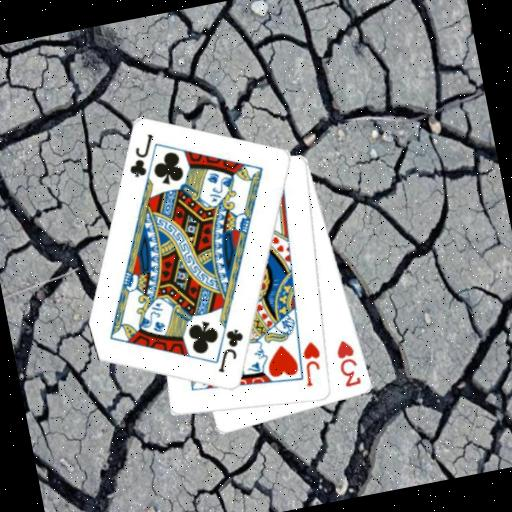3H: (332, 336, 364, 390)
JC: (208, 325, 252, 376), (120, 131, 164, 182)
JH: (296, 338, 328, 390)
